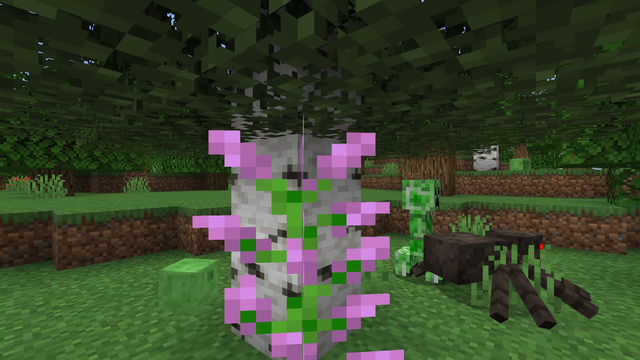araignees: (426, 218, 559, 328)
creepers: (397, 174, 444, 278)
slimes: (160, 255, 217, 317), (511, 157, 527, 167)
